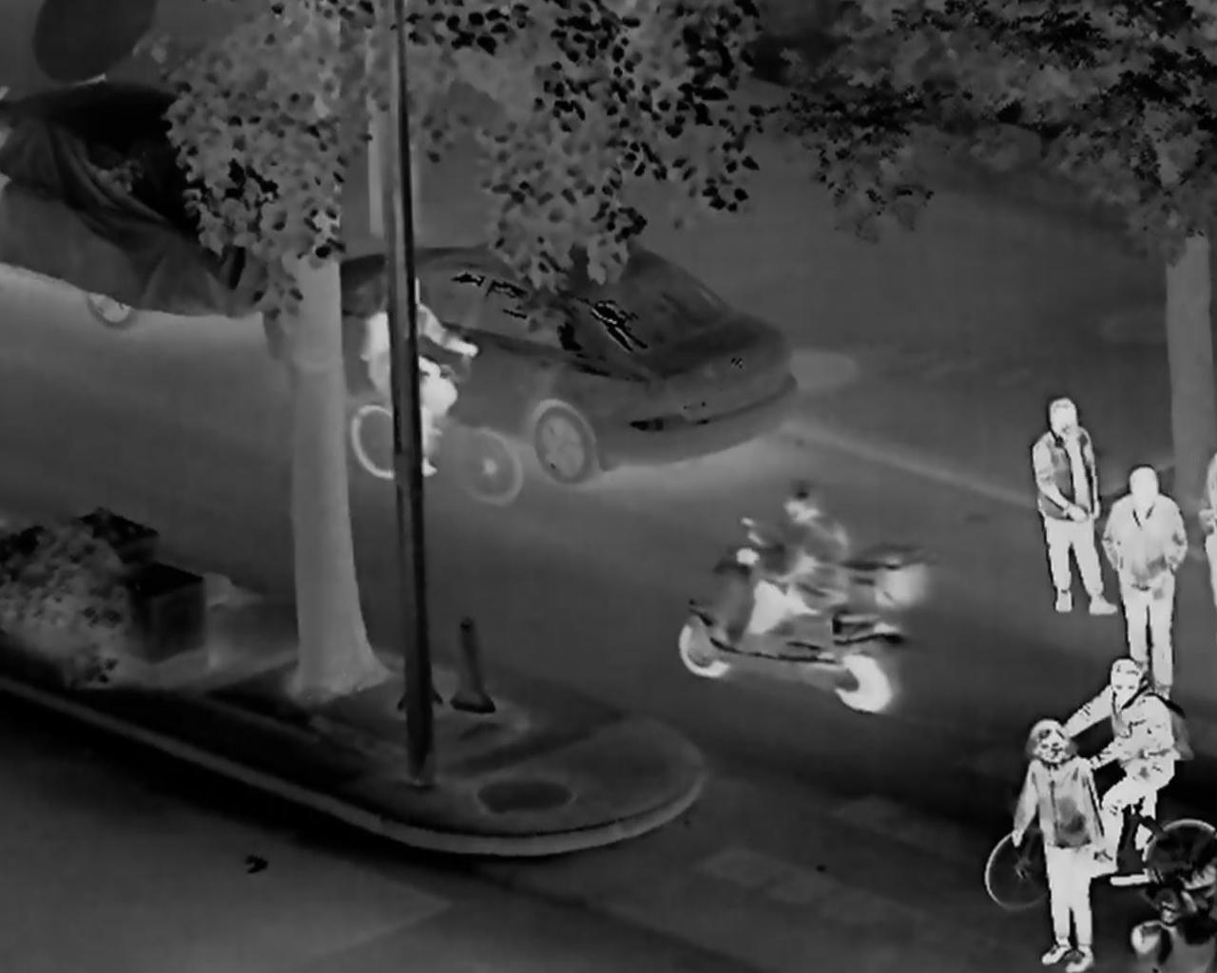person: (1056, 658, 1173, 878), (1011, 719, 1104, 968), (365, 277, 473, 479), (1104, 465, 1185, 713), (1030, 396, 1116, 614), (738, 482, 844, 650)
